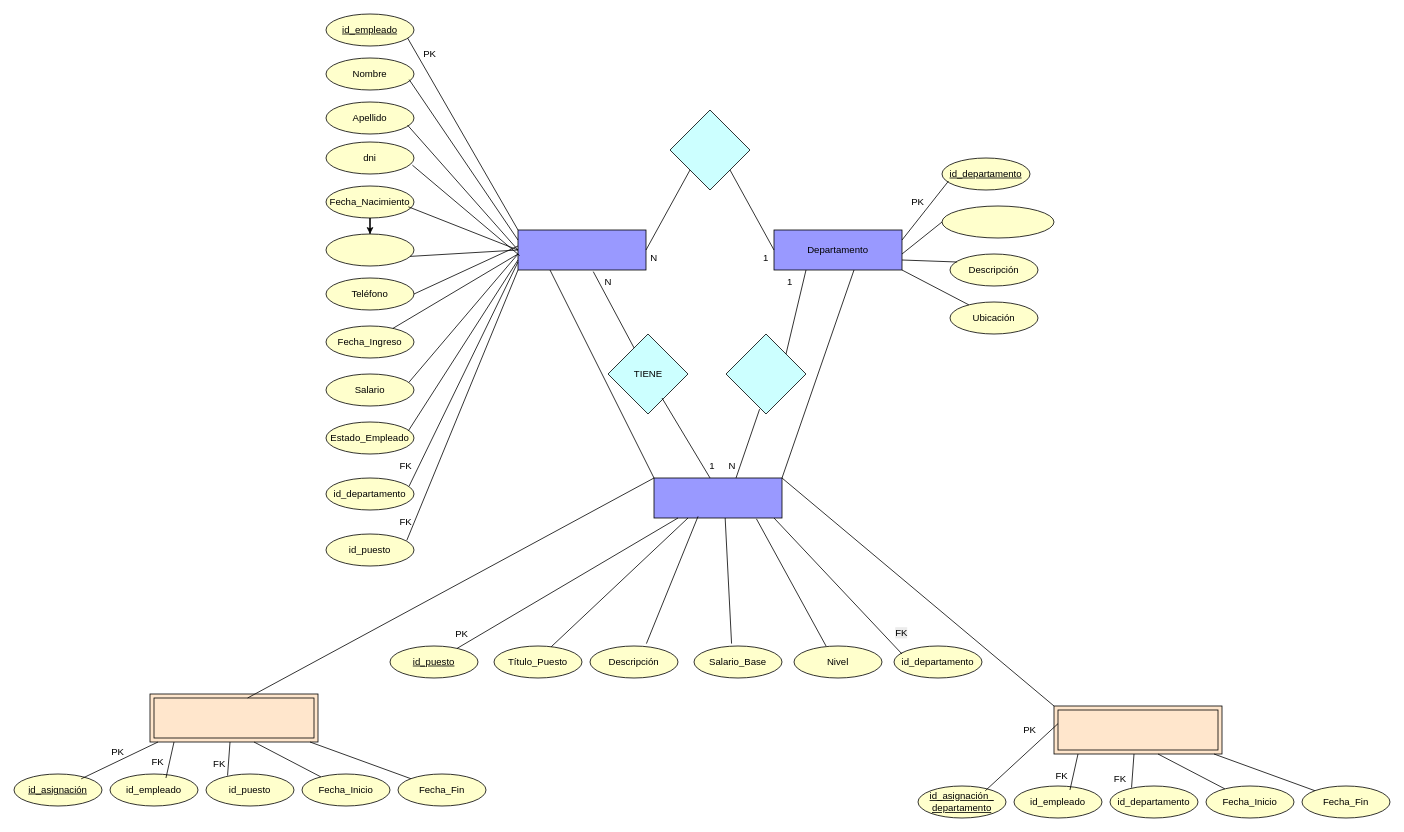
Image size: 1404x832. Some labels were removed from this diagram. The centre of each missing label's shape, as x and y in pixels:
"Asignación_ Departamento" goes at (x=1137, y=729).
"Asignación_Puesto" goes at (x=233, y=717).
"Dirección" goes at (x=369, y=249).
"Empleado" goes at (x=581, y=249).
"Nombre_Departamento" goes at (x=997, y=221).
"PERTENECE_ A" goes at (x=765, y=373).
"Puesto" goes at (x=717, y=497).
"TRABAJA_ EN" goes at (x=709, y=149).
